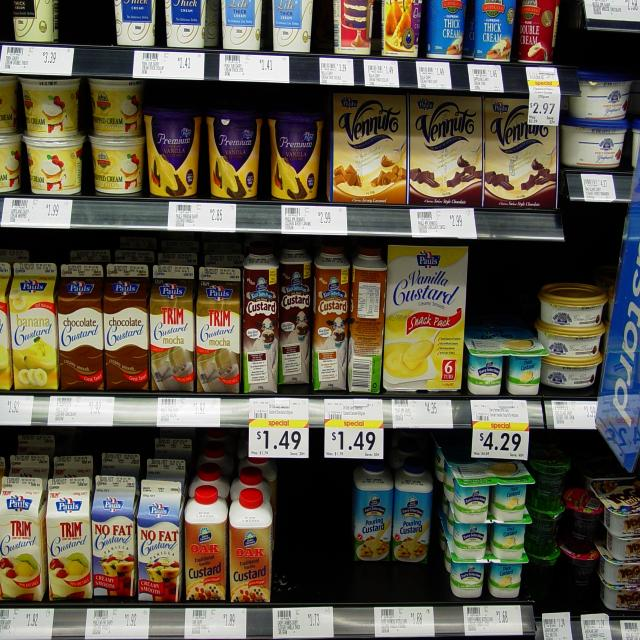empty_space: (298, 461, 348, 592), (477, 254, 527, 315)
